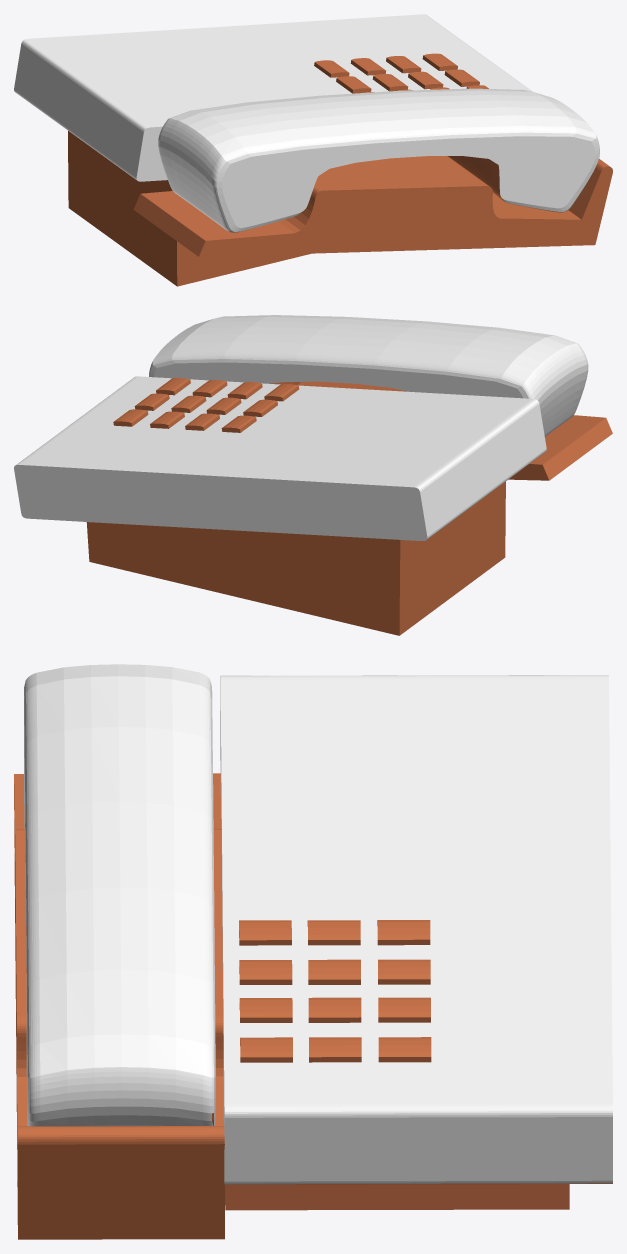
File: phone.FBX
The picture shows the model from 3 angles, top to bottom: view 1: azimuth 30°, elevation 25°; view 2: azimuth 150°, elevation 25°; view 3: azimuth 270°, elevation 25°; orthographic projection. The views are drawn at different scales.
Visible parts, largest first — view 1: Layer_ante, Object020, Object019; view 2: Object019, Layer_ante, Object020; view 3: Object019, Object020, Layer_ante.
Part boxes in pixels (x1=…): Layer_ante: x1=68, y1=53, x2=612, y2=286; Object020: x1=158, y1=88, x2=599, y2=232; Object019: x1=14, y1=14, x2=532, y2=181; Object019: x1=14, y1=376, x2=546, y2=540; Layer_ante: x1=86, y1=378, x2=612, y2=635; Object020: x1=149, y1=315, x2=588, y2=436; Object019: x1=220, y1=675, x2=612, y2=1184; Object020: x1=24, y1=664, x2=215, y2=1126; Layer_ante: x1=14, y1=773, x2=612, y2=1239.
Bounding box in the file's own units: 11 × 4.68 × 8.53.
